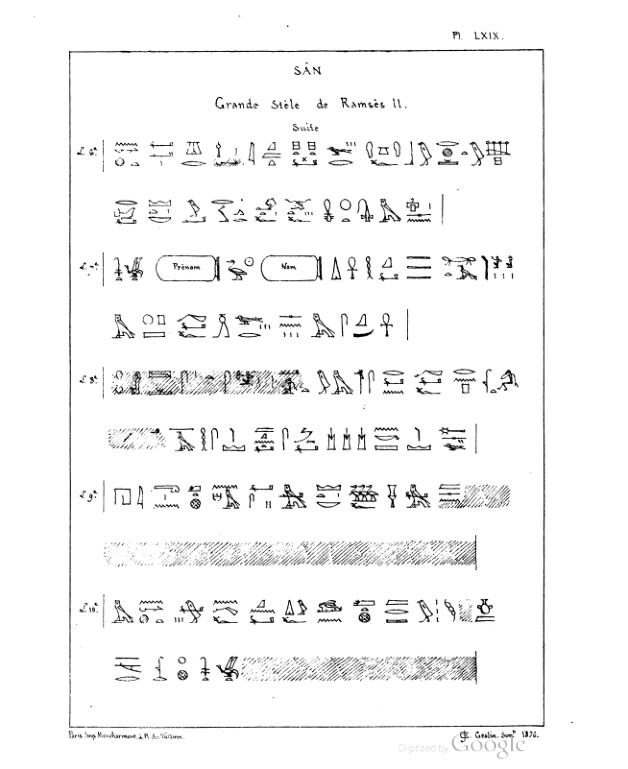circle: (153, 249, 226, 287), (258, 249, 325, 285)
